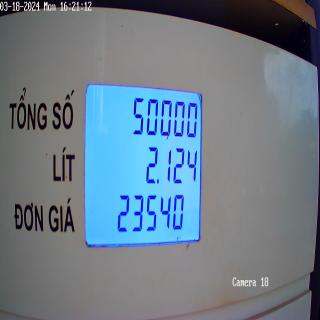screen: (82, 76, 205, 248)
